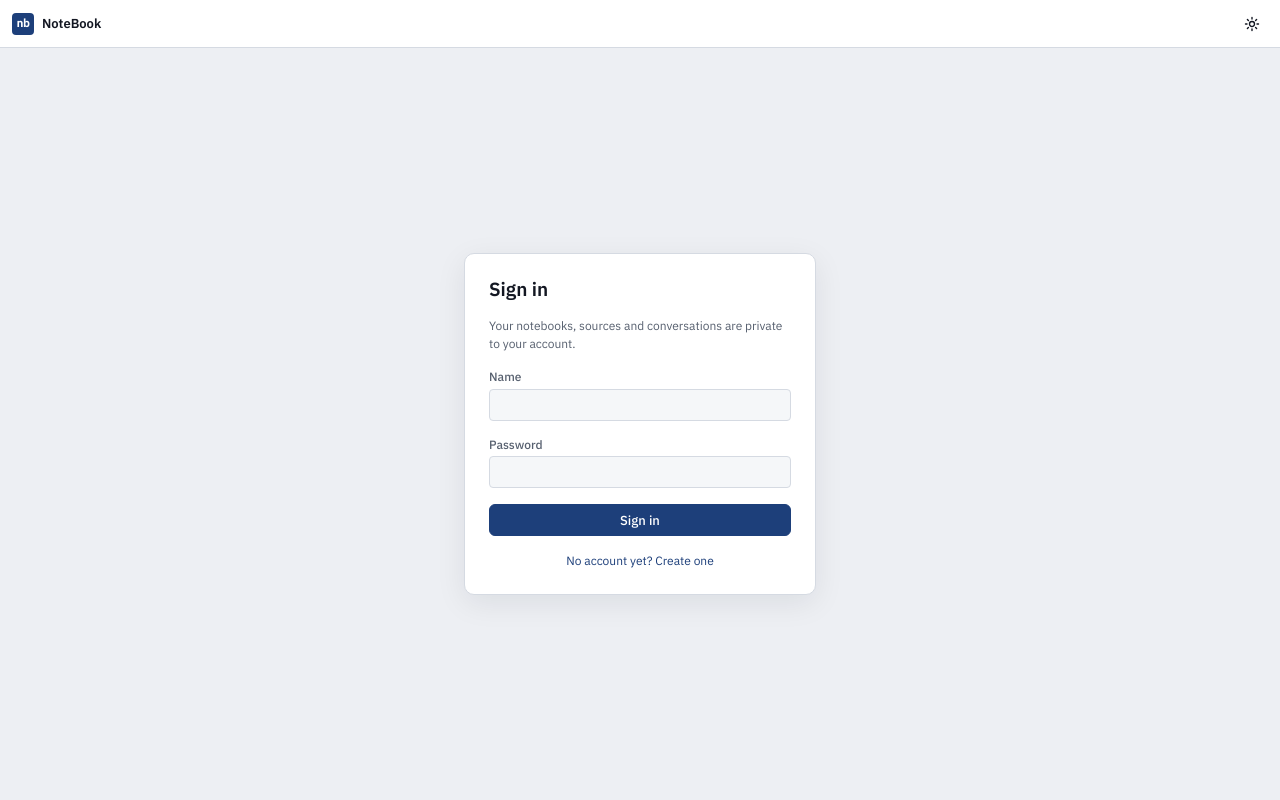
Scenario: signing in › shows the server's message when the password is wrong, and keeps the form
Step 1. Type "ada" into the field labelled "Name" → (640, 405), box [489,389,791,421]
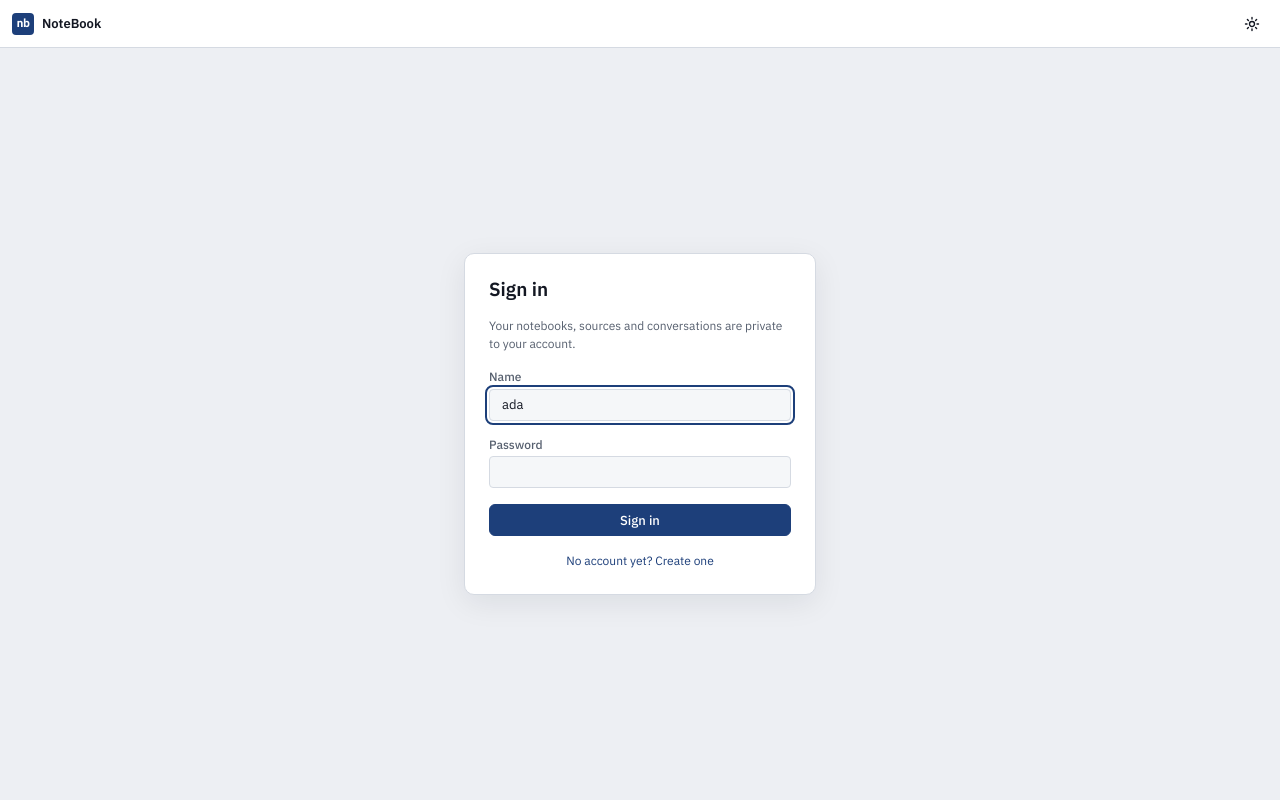
Step 2. Type "wrong-password-here" into the password field labelled "Password" → (640, 472), box [489,456,791,488]
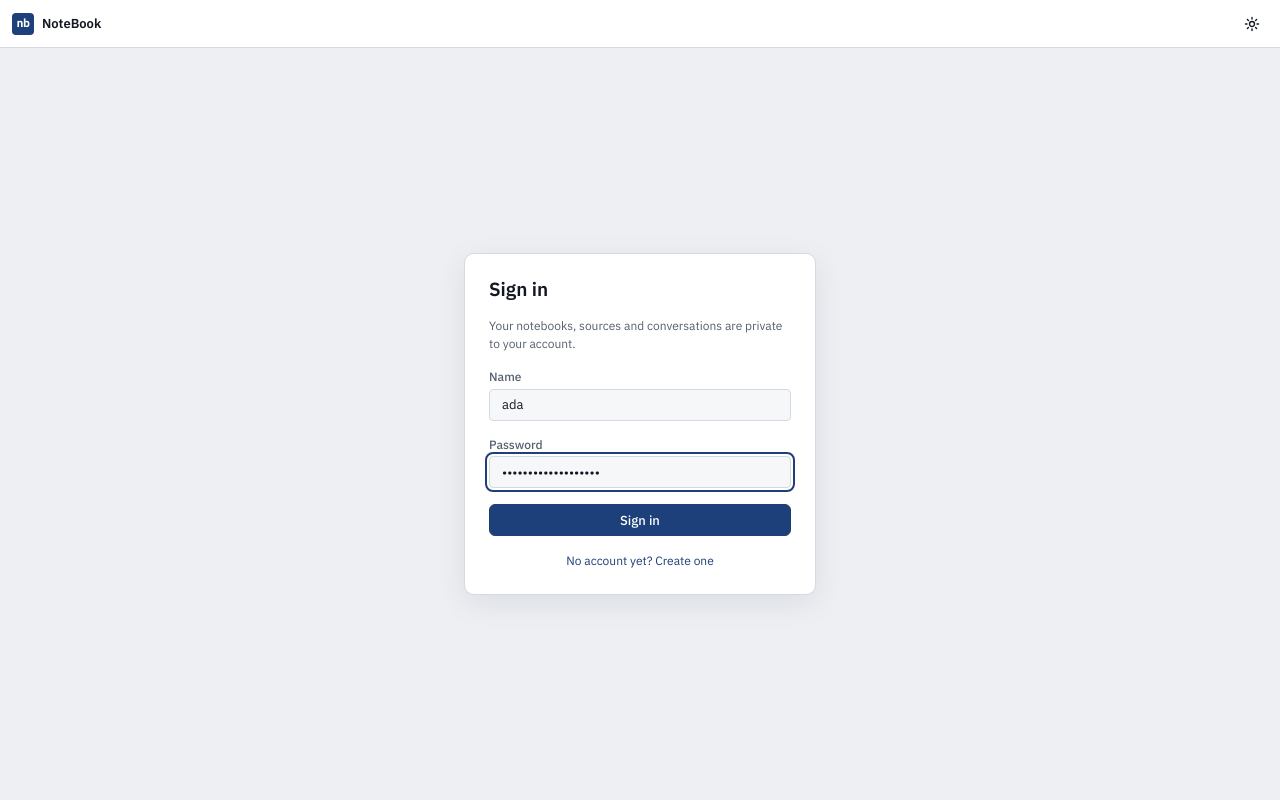
Step 3. Click the button "Sign in" → (640, 520), box [489,504,791,536]
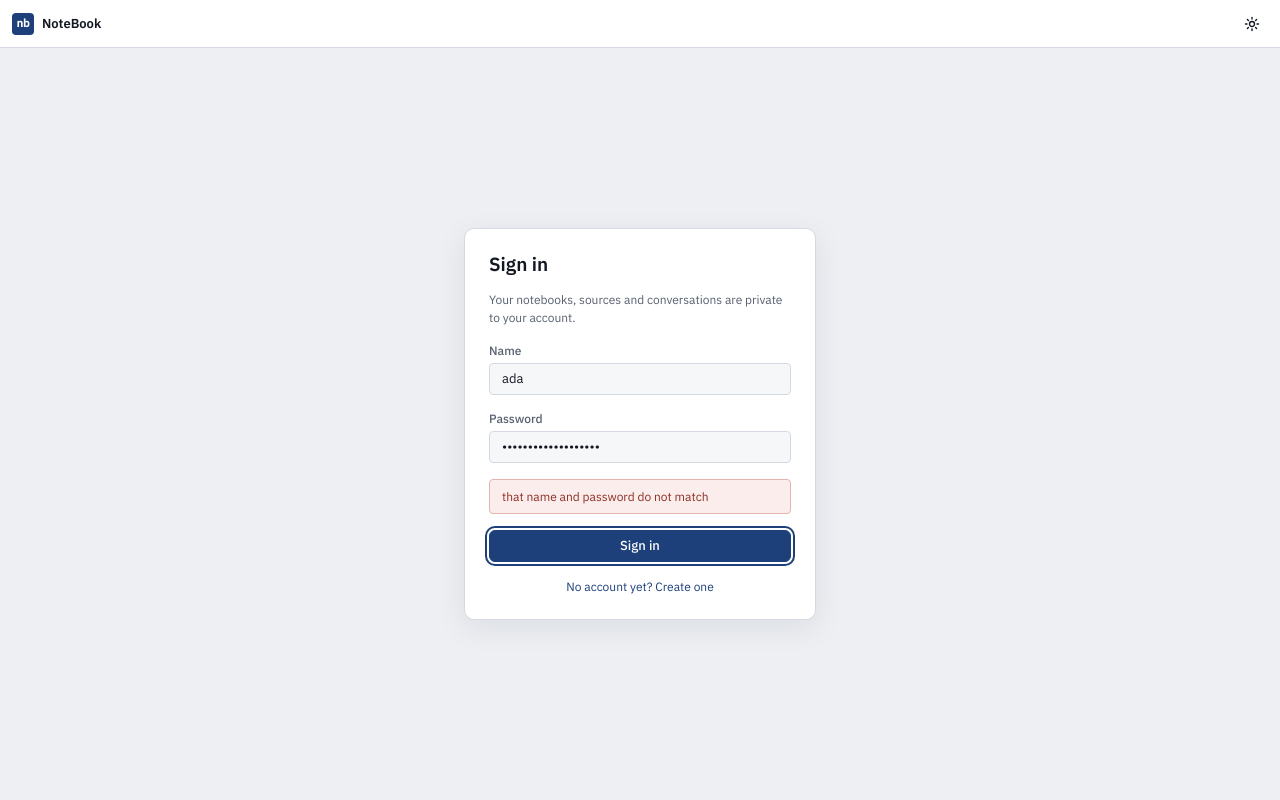
Check: the message reads "that name and password do not match", box [502,488,708,504]
